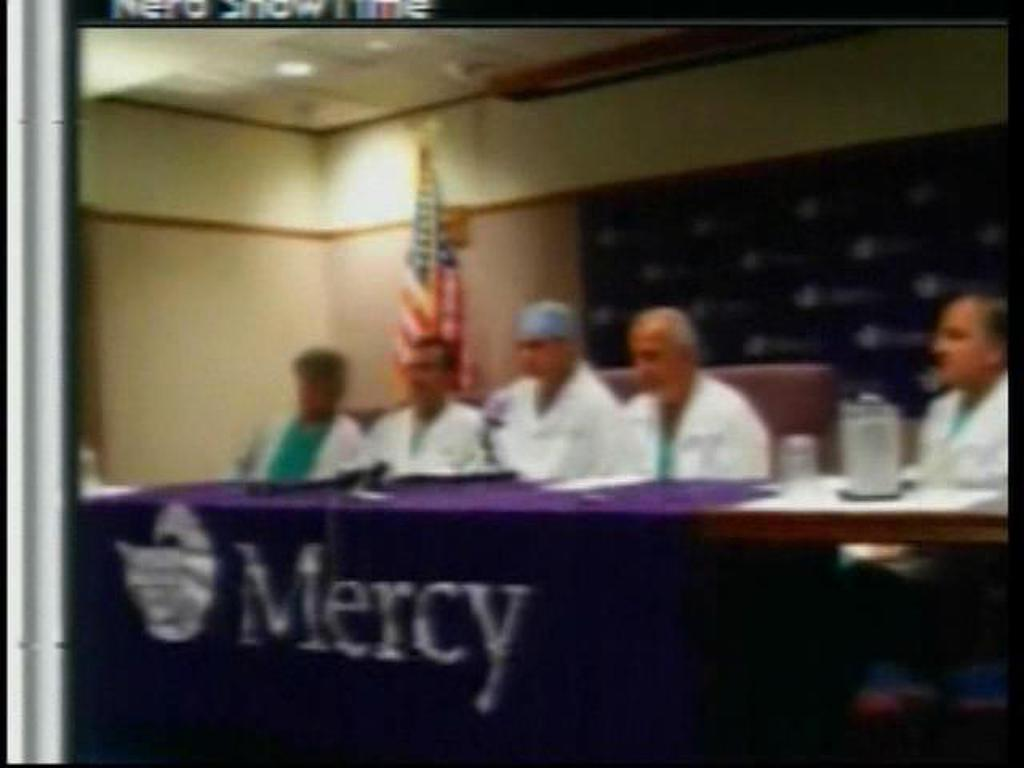face: (932, 303, 987, 381), (628, 337, 679, 400), (406, 346, 443, 401), (519, 329, 564, 374), (300, 378, 329, 414)
